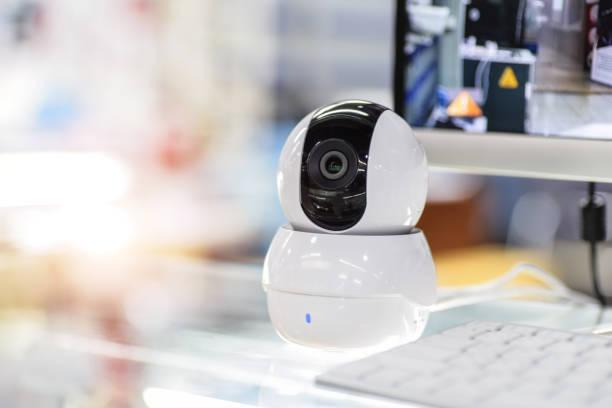camera: (246, 77, 437, 257)
